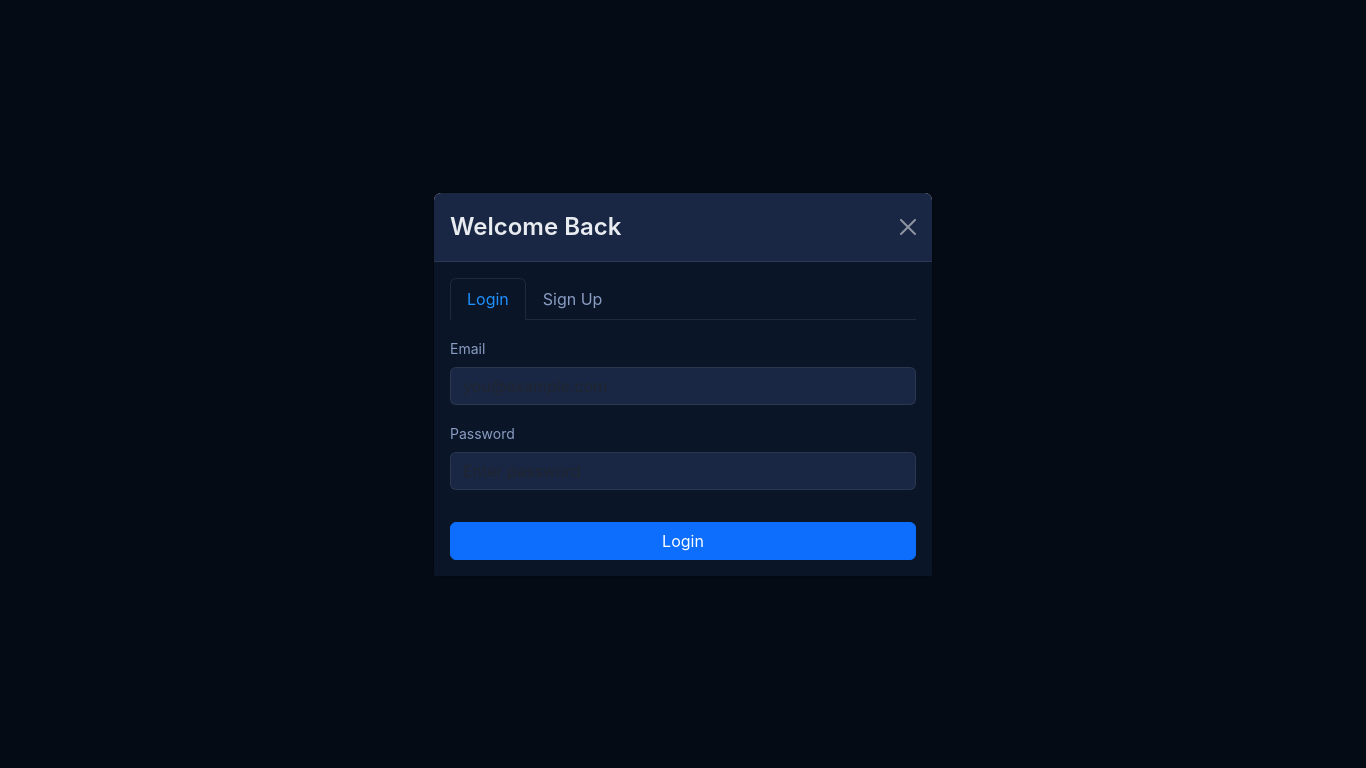
Test: AuthModal › sync error handling › shows sync error on login when server is unreachable
Type "a@b.com" into the field labelled "Email" at (683, 386), box top-left (450, 366), bottom-right (916, 404)
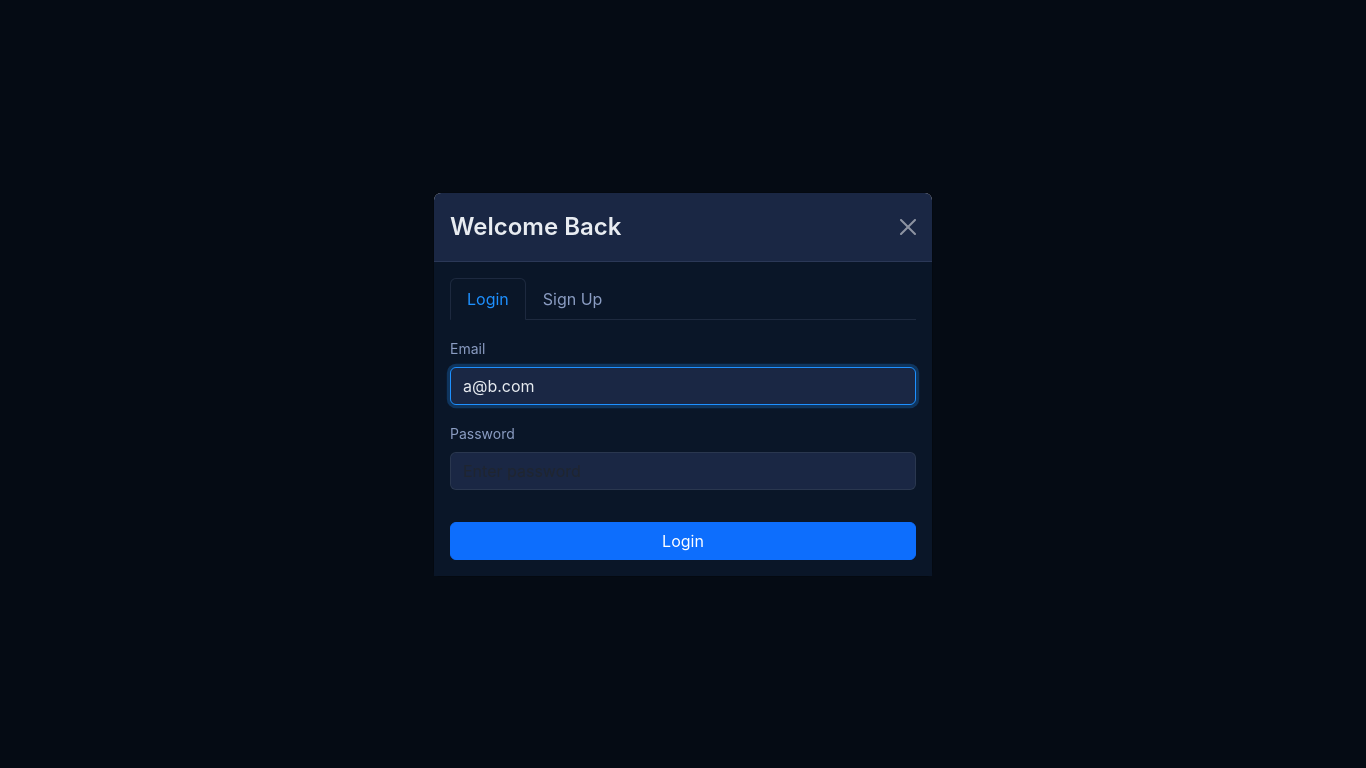
Type "pass123" into the password field labelled "Password" at (683, 470), box top-left (450, 452), bottom-right (916, 490)
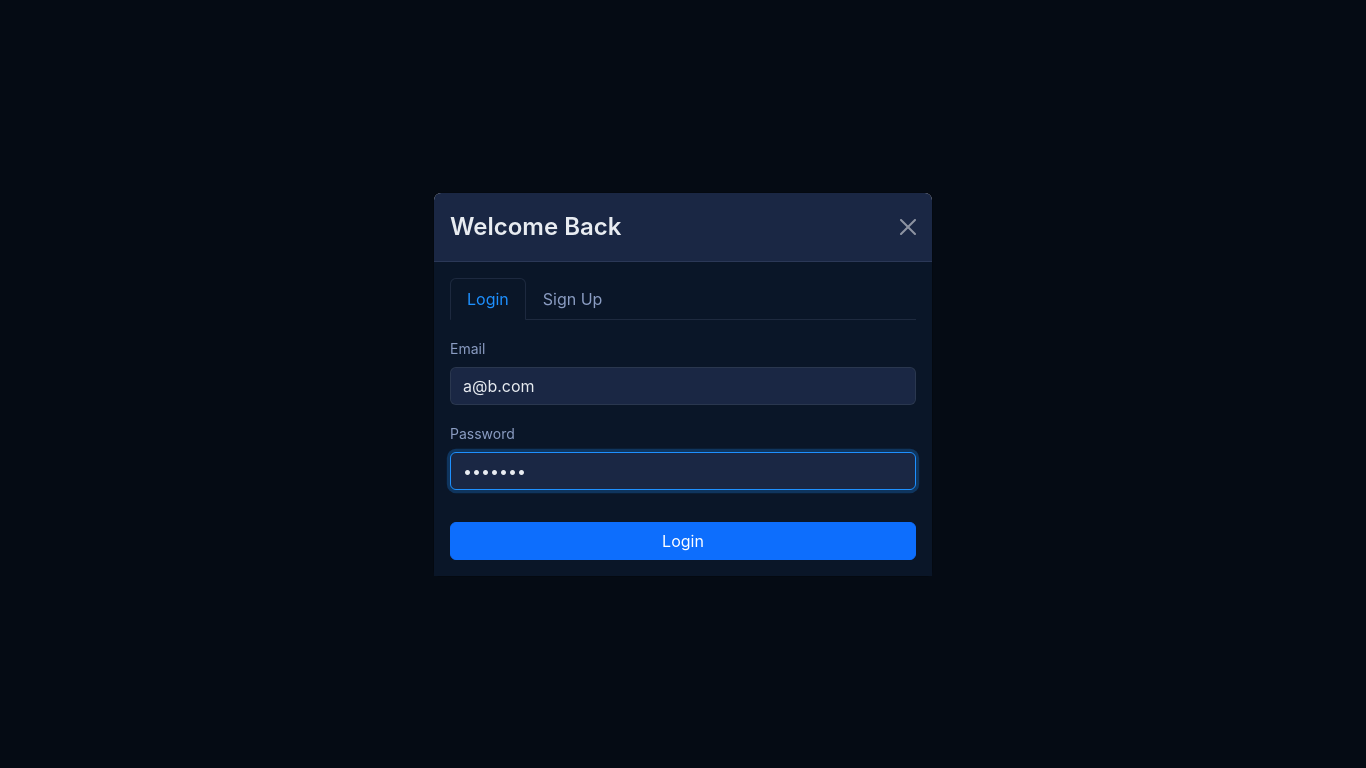
Click the button "Login" below "Password" at (683, 540), box top-left (450, 522), bottom-right (916, 560)
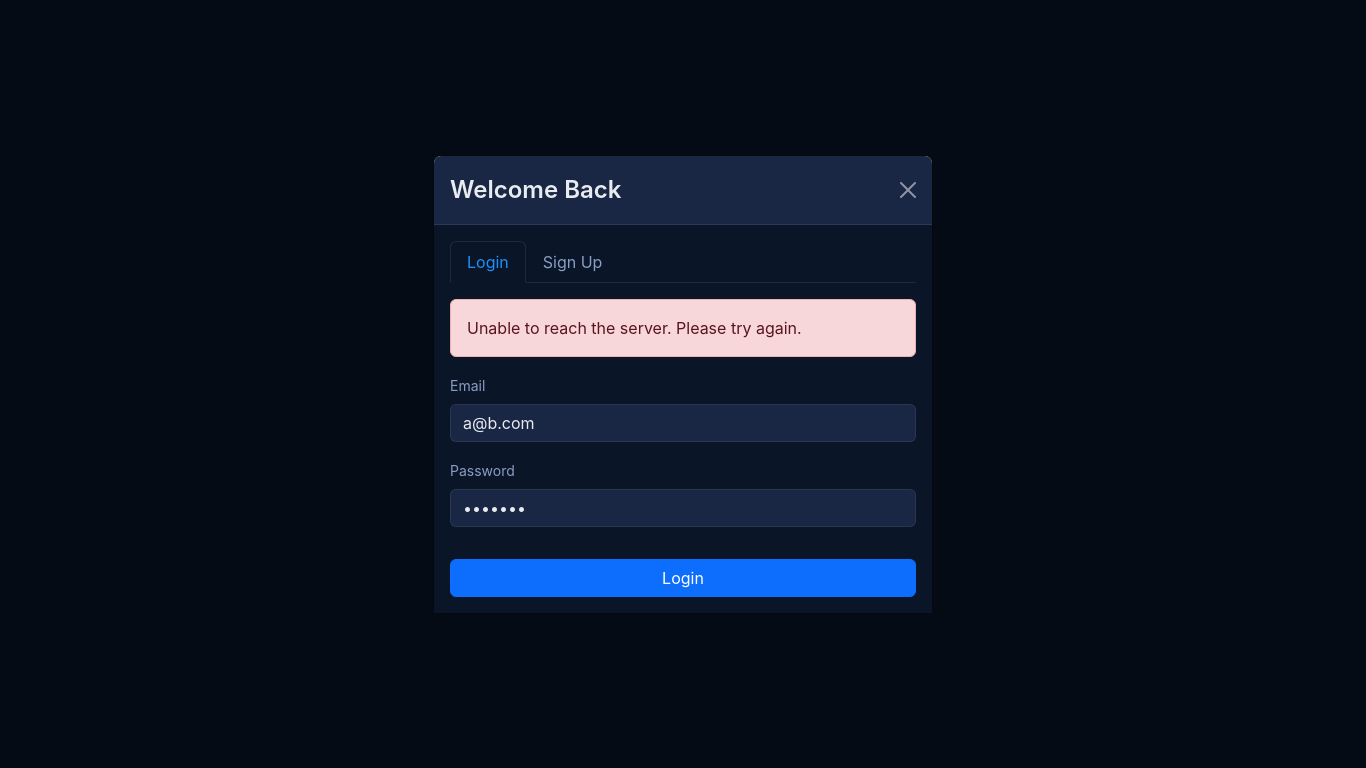
Check: the text "Unable to reach the server. Please try again." is shown, box top-left (450, 298), bottom-right (916, 356)
